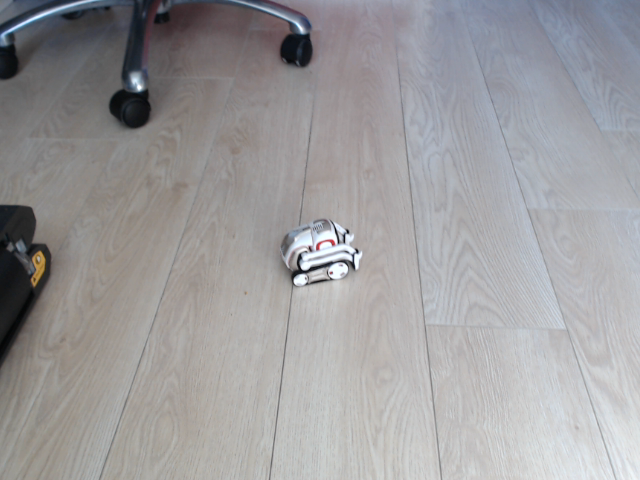cozmo: (277, 215, 368, 296)
